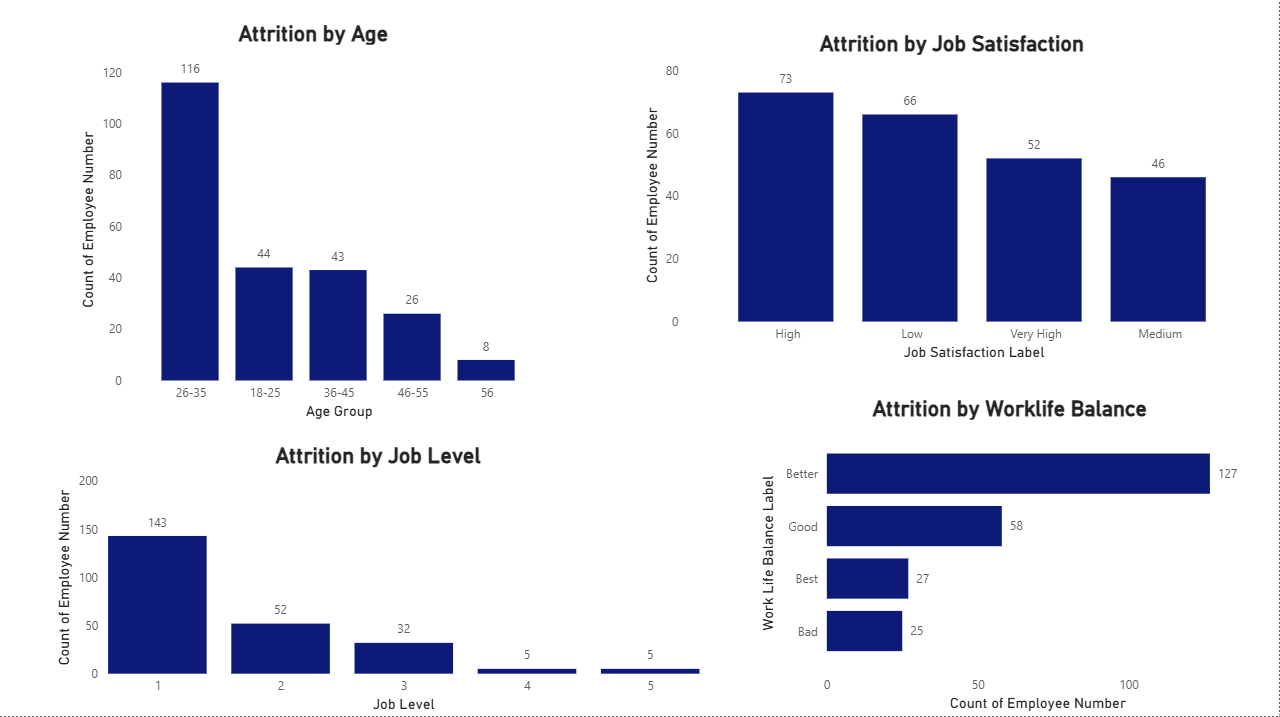

What the dashboard file says about the page in this screenshot:
{"tool":"powerbi","page":{"name":"Page 2","canvas":[1280,720],"ordinal":1},"visuals":[{"type":"clusteredColumnChart","title":"Attrition by Job Satisfaction","fields":{"Category":["EmployeeAttrition.Job Satisfaction Label"],"Y":["CountNonNull(EmployeeAttrition.Employee Number)"]},"box":[639.5,34.3,625.7,334.8],"z":0},{"type":"clusteredColumnChart","title":"Attrition by Job Level","fields":{"Category":["EmployeeAttrition.Job Level"],"Y":["CountNonNull(EmployeeAttrition.Employee Number)"]},"box":[52.1,446,653.2,274.4],"z":1000},{"type":"clusteredBarChart","title":"Attrition by Worklife Balance","fields":{"Category":["EmployeeAttrition.Work Life Balance Label"],"Y":["CountNonNull(EmployeeAttrition.Employee Number)"]},"box":[756.1,399.3,509.1,321.1],"z":2000},{"type":"clusteredColumnChart","title":"Attrition by Age","fields":{"Category":["EmployeeAttrition.Age Group"],"Y":["CountNonNull(EmployeeAttrition.Employee Number)"]},"box":[76.2,23.8,476.2,403.8],"z":3000}]}

Visuals, with their boxes in screenshot pixels (x1, y1, x2, y2), scaled from the page's 1280x720 canvas onto the 1280x717 screenshot:
"Attrition by Job Satisfaction" clusteredColumnChart: bbox(640, 34, 1265, 368)
"Attrition by Job Level" clusteredColumnChart: bbox(52, 444, 705, 716)
"Attrition by Worklife Balance" clusteredBarChart: bbox(756, 398, 1265, 716)
"Attrition by Age" clusteredColumnChart: bbox(76, 24, 552, 426)
